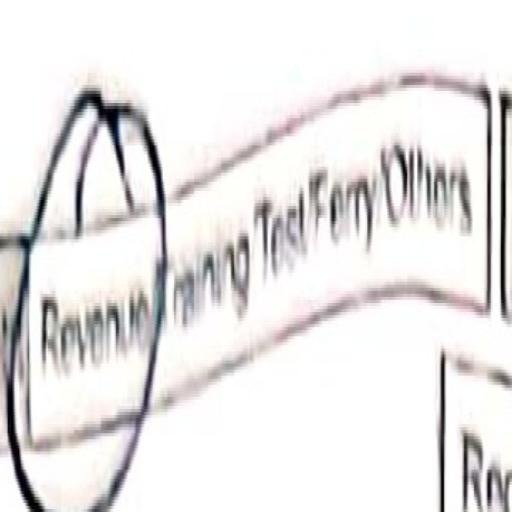check: (28, 85, 164, 512)
